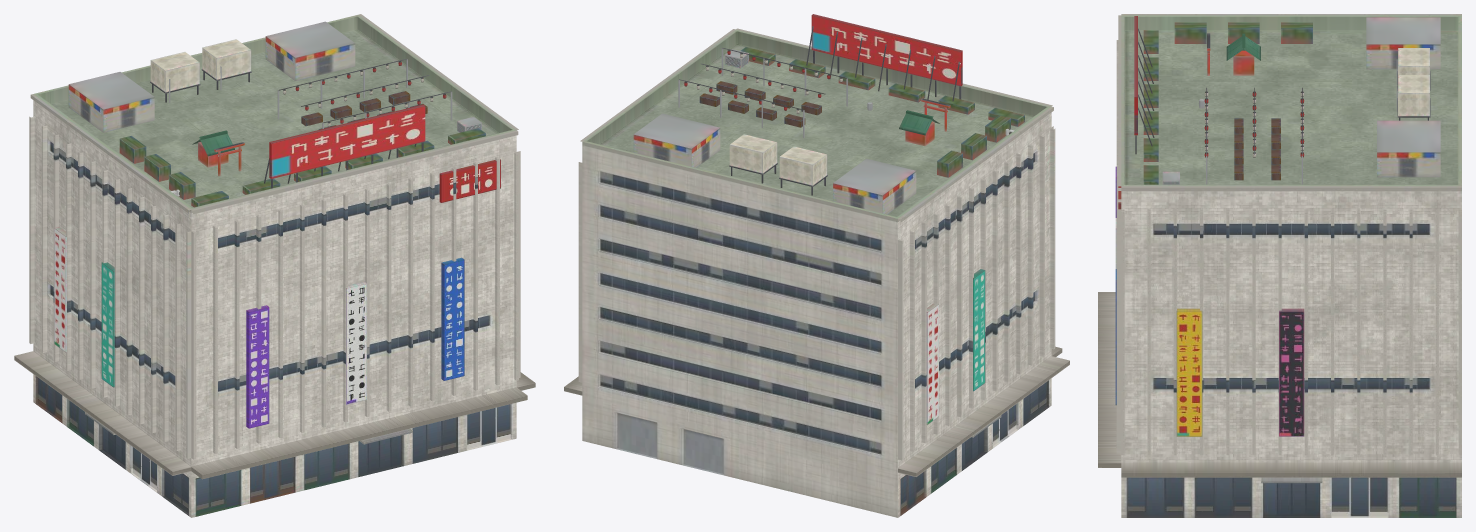
File: tokyo_midrise_c.glb
3 views of the same model, side by side, from view 1: azimuth 30°, elevation 25°; view 2: azimuth 150°, elevation 25°; view 3: azimuth 270°, elevation 25° (orthographic). The views are drawn at different scales.
Parts seen in each view (by area): view 1: tokyo_midrise_c; view 2: tokyo_midrise_c; view 3: tokyo_midrise_c.
Boxes of the visible parts, x1,y1,x2,y2 form: tokyo_midrise_c: (14,14,535,517); tokyo_midrise_c: (564,14,1069,517); tokyo_midrise_c: (1098,14,1461,517).
Bounding box in the file's own units: 42.4 × 39 × 34.2.
Materials: 1 (1 with a texture image).
